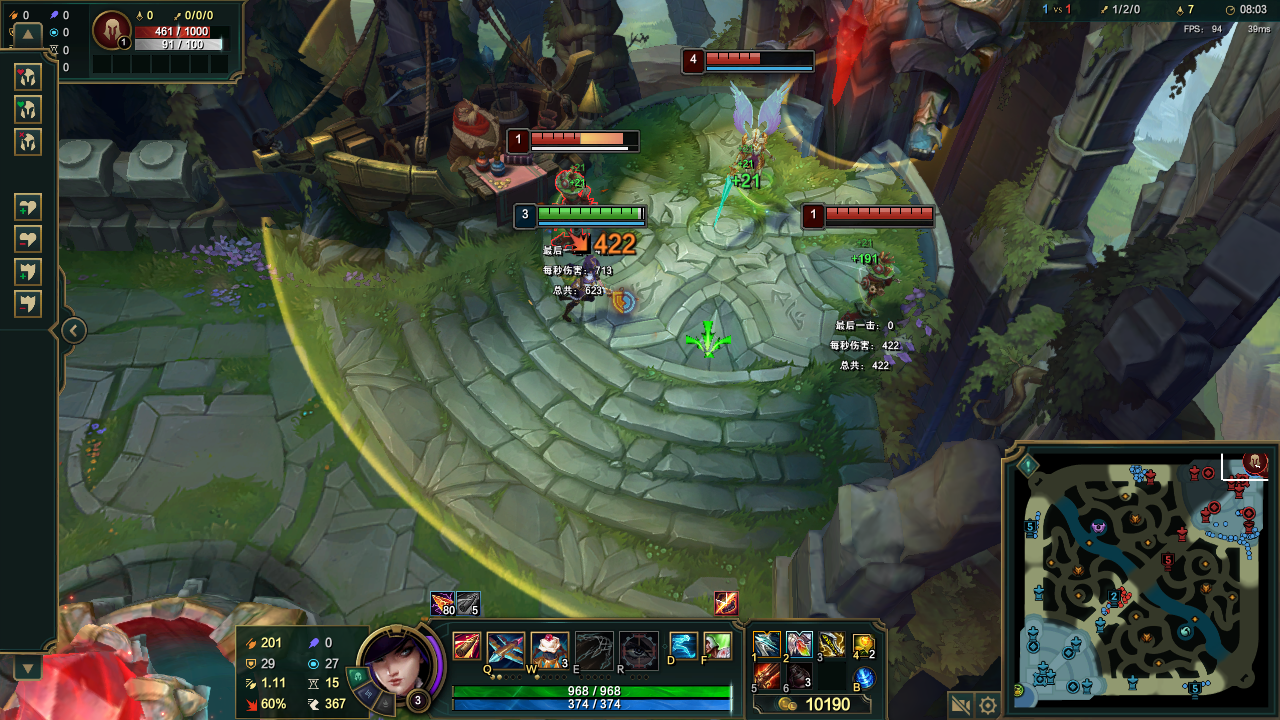DFYX: (828, 206, 935, 221), (706, 52, 819, 63), (529, 131, 640, 141)
